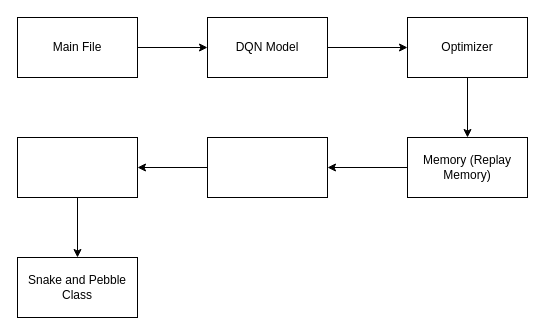
This 545x335 diagram has some shape labels left out. Each missing label, with the centre of its shape:
Game Logic: (x=77, y=167)
Snake Environment Model: (x=267, y=167)
